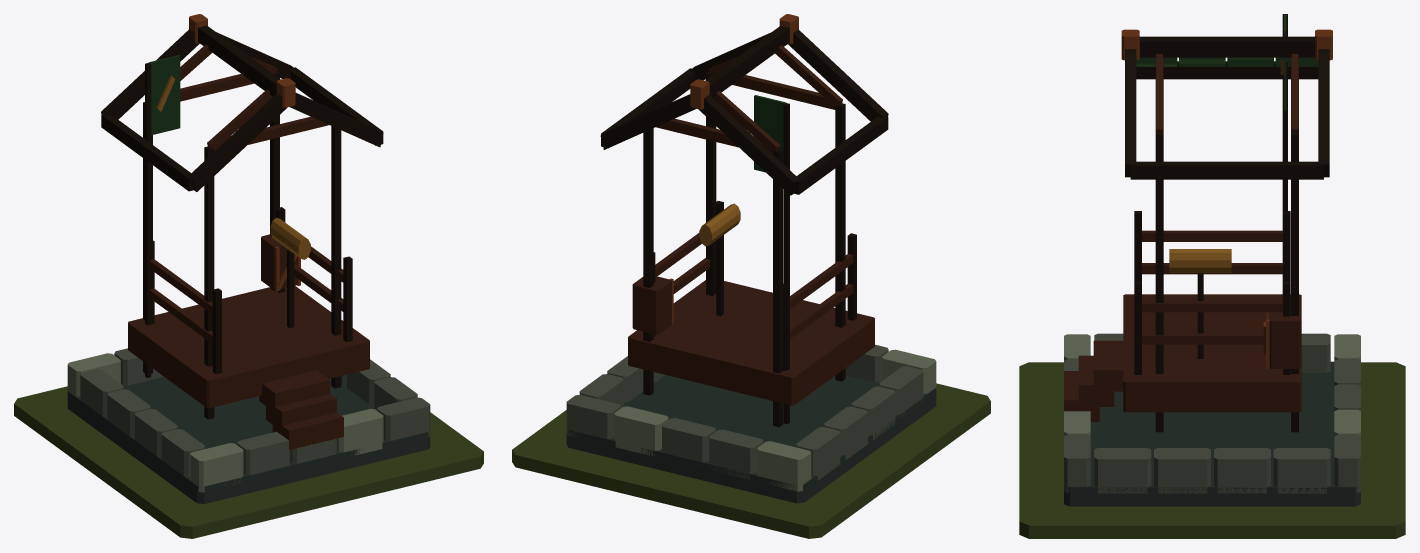
File: scout_post_t5.glb
The picture shows the model from 3 angles, left to right: view 1: azimuth 30°, elevation 25°; view 2: azimuth 150°, elevation 25°; view 3: azimuth 270°, elevation 25°; orthographic projection. The views are drawn at different scales.
Visible parts, largest first — view 1: MMR | scout_post | T05 Architecture.001, MMR | scout_post | Tier 05 Ground.001; view 2: MMR | scout_post | T05 Architecture.001, MMR | scout_post | Tier 05 Ground.001; view 3: MMR | scout_post | T05 Architecture.001, MMR | scout_post | Tier 05 Ground.001.
Boxes of the visible parts, x1,y1,x2,y2 form: MMR | scout_post | T05 Architecture.001: (67, 14, 430, 503); MMR | scout_post | Tier 05 Ground.001: (14, 386, 483, 538); MMR | scout_post | T05 Architecture.001: (566, 14, 936, 503); MMR | scout_post | Tier 05 Ground.001: (512, 383, 990, 538); MMR | scout_post | T05 Architecture.001: (1064, 14, 1360, 506); MMR | scout_post | Tier 05 Ground.001: (1019, 362, 1405, 538).
Bounding box in the file's own units: 1.3 × 1.57 × 1.3.
Materials: 1 (1 with a texture image).
